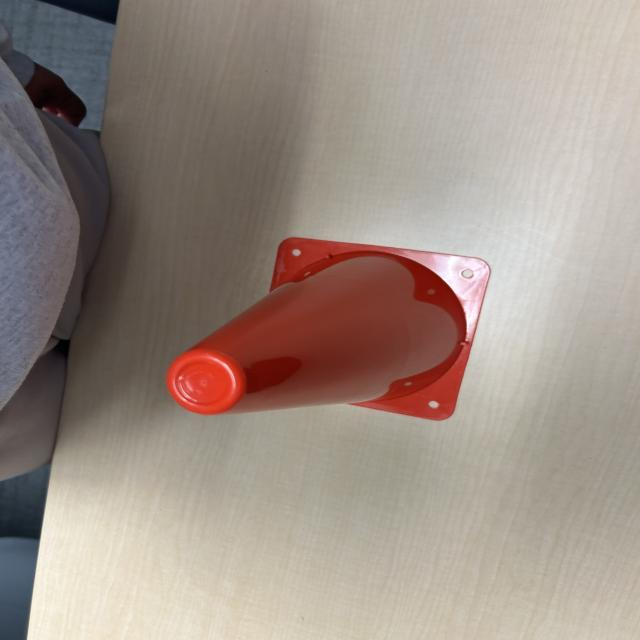orange cone: (149, 228, 494, 440)
